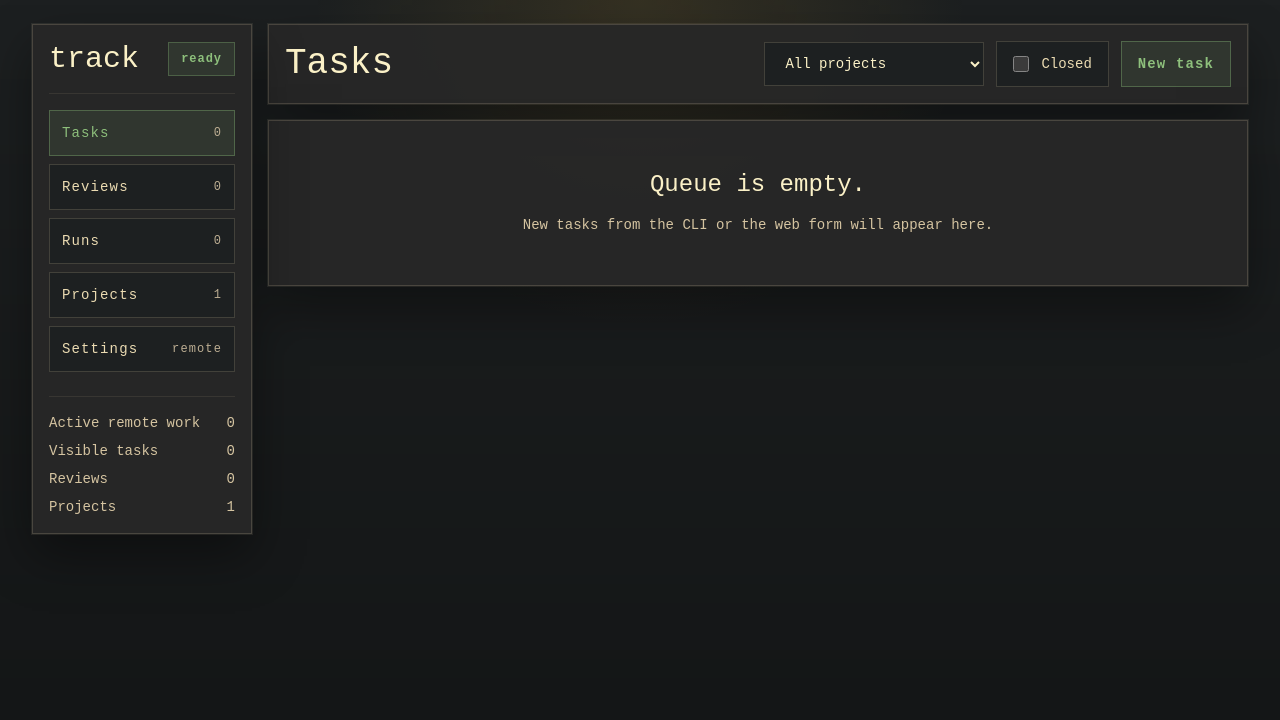
Test: App shell › gates manual PR reviews until a main GitHub user is configured
What coordinates should you click on to do the following:
click the link with test id "shell-nav-reviews"
I would click on:
 (142, 187)
Its box is [49,164,235,210].
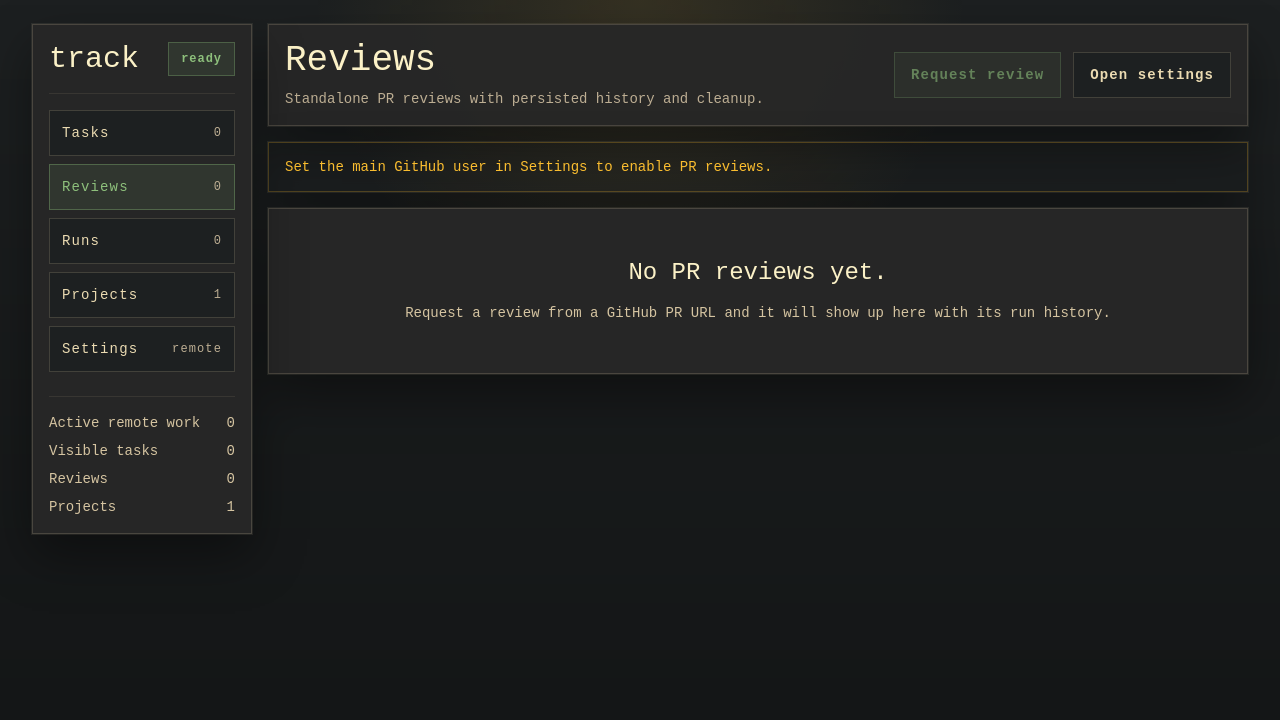
Expected: the button "Request review" is disabled, [894,52,1061,98]
Expected: the text "Set the main GitHub user in Settings to enable PR reviews." is shown, [268,142,1248,192]
